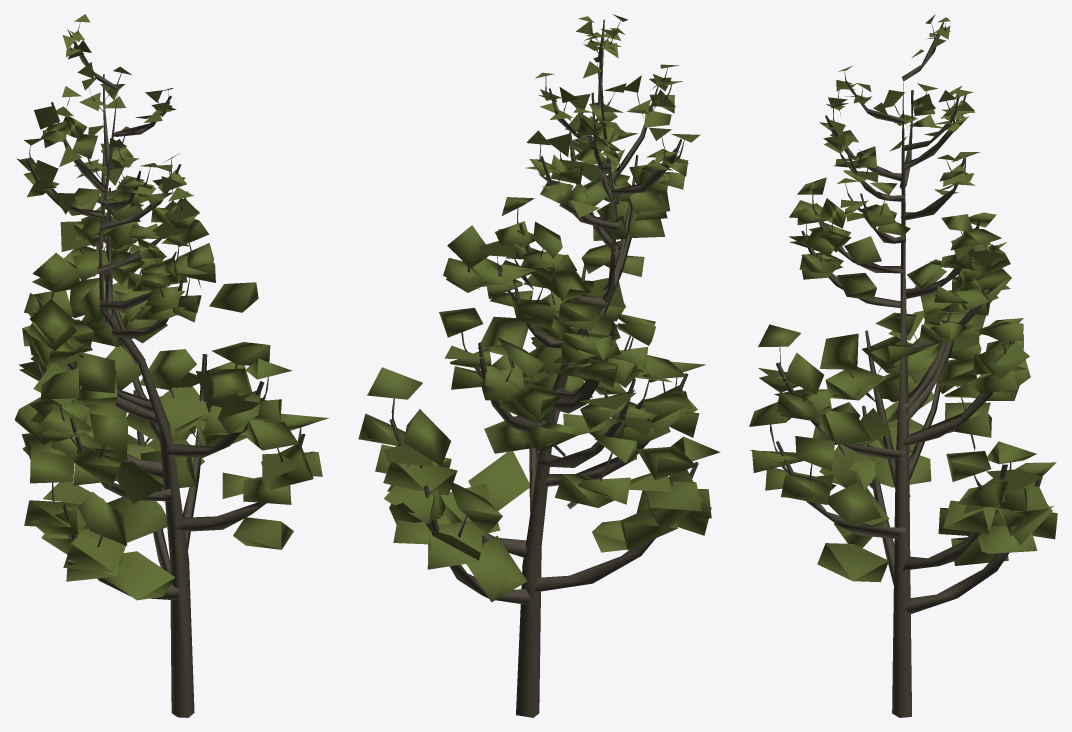
Rendered from Tree_BlackWillow_003.fbx.
3 renders of one model, left to right at view 1: azimuth 30°, elevation 25°; view 2: azimuth 150°, elevation 25°; view 3: azimuth 270°, elevation 25°, orthographic. The views are drawn at different scales.
Parts seen in each view (by area): view 1: Tree_BlackWillow.003; view 2: Tree_BlackWillow.003; view 3: Tree_BlackWillow.003.
Boxes of the visible parts, x1=… form: Tree_BlackWillow.003: x1=14, y1=14, x2=328, y2=717; Tree_BlackWillow.003: x1=358, y1=14, x2=720, y2=717; Tree_BlackWillow.003: x1=749, y1=14, x2=1057, y2=717.
Bounding box in the file's own units: 1220 × 2954 × 1254.
